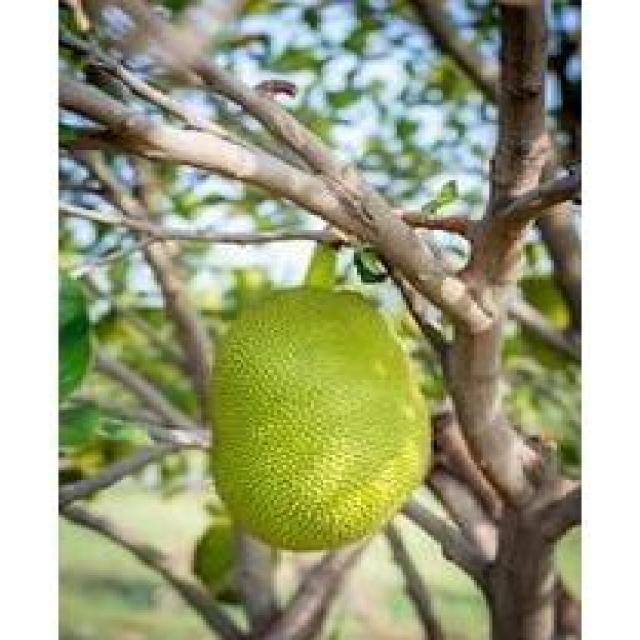Fruit: (191, 278, 446, 560)
